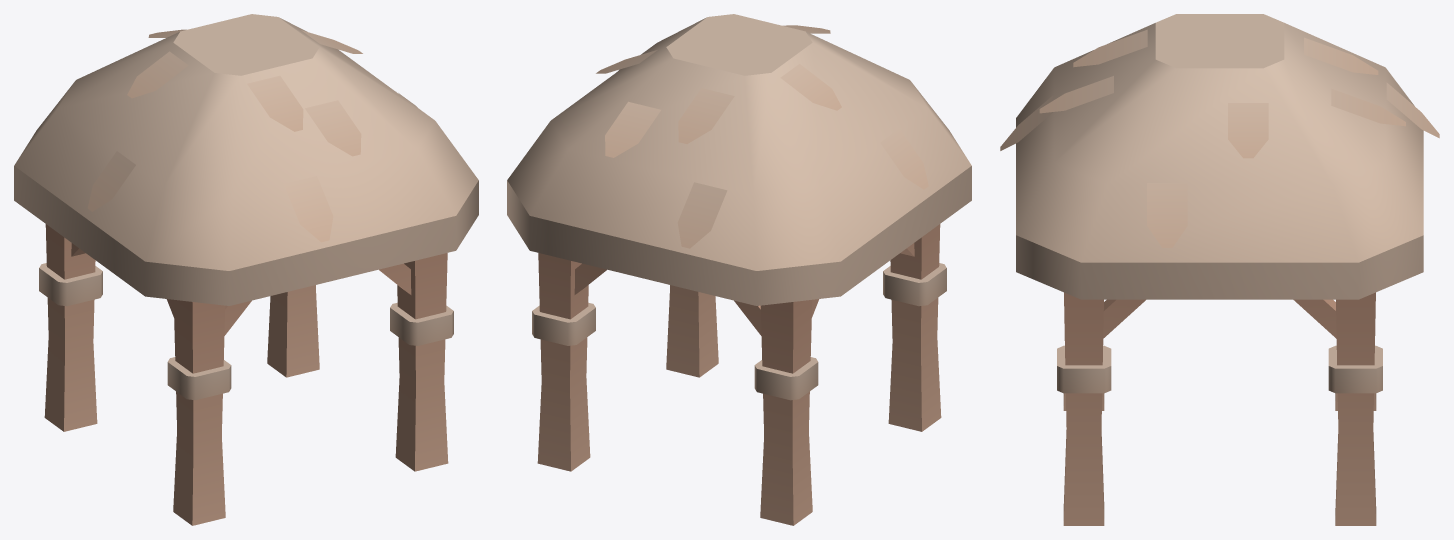
Rendered from structure-roof.glb.
The picture shows the model from 3 angles, left to right: view 1: azimuth 30°, elevation 25°; view 2: azimuth 150°, elevation 25°; view 3: azimuth 270°, elevation 25°; orthographic projection. The views are drawn at different scales.
Visible parts, largest first — view 1: structure-roof; view 2: structure-roof; view 3: structure-roof.
Part boxes in pixels (x1=…): structure-roof: x1=14, y1=14, x2=478, y2=525; structure-roof: x1=507, y1=14, x2=971, y2=525; structure-roof: x1=1000, y1=14, x2=1439, y2=525.
Bounding box in the file's own units: 3.09 × 3.4 × 3.23.
